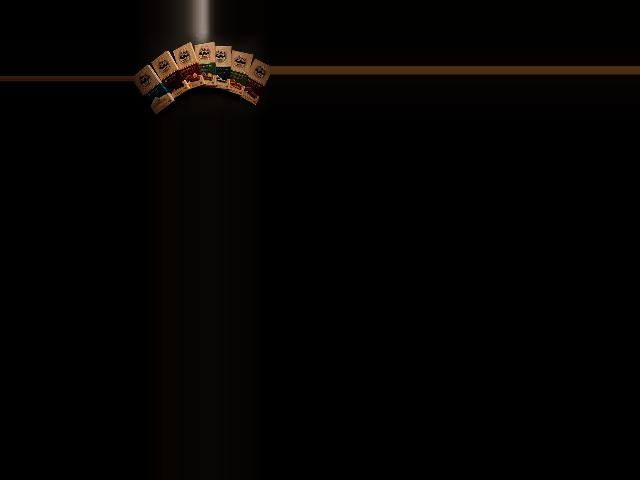chocolate: (134, 62, 174, 118)
